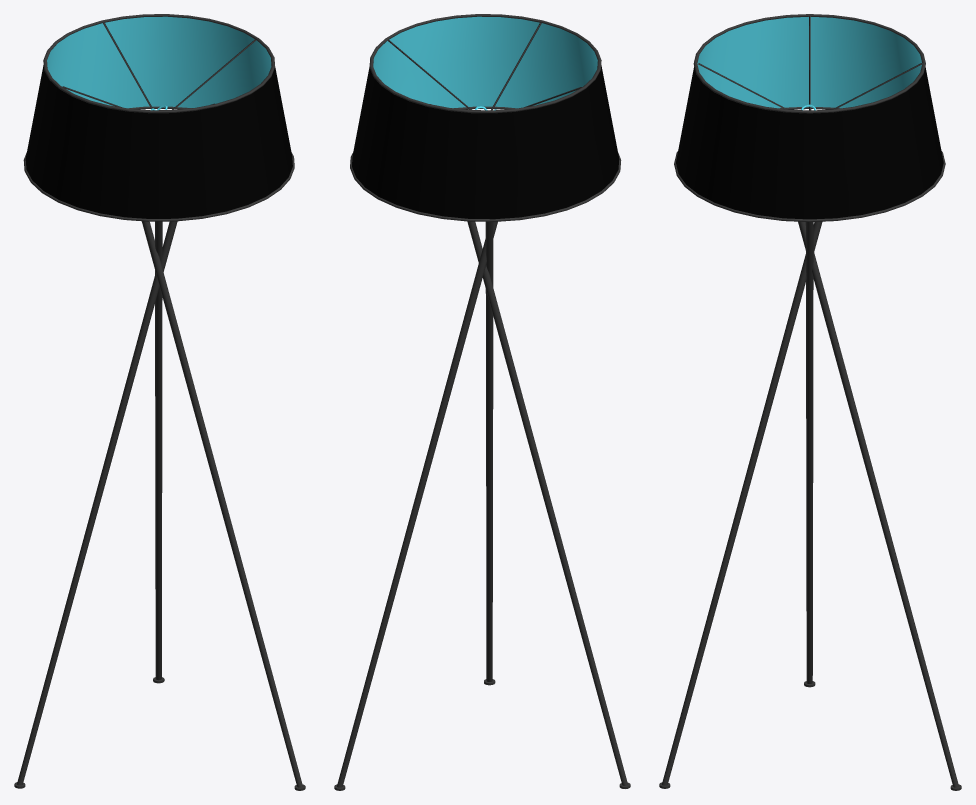
File: SM_FloorLight_019.FBX
3 renders of one model, left to right at view 1: azimuth 30°, elevation 25°; view 2: azimuth 150°, elevation 25°; view 3: azimuth 270°, elevation 25°, orthographic.
Parts seen in each view (by area): view 1: SM_FloorLight_019; view 2: SM_FloorLight_019; view 3: SM_FloorLight_019.
Part boxes in pixels (x1,y1,x2,y2): SM_FloorLight_019: (14,14,305,790); SM_FloorLight_019: (334,14,630,790); SM_FloorLight_019: (659,14,961,790).
Size of the model in its own units: 63.48 by 63.46 by 160.
